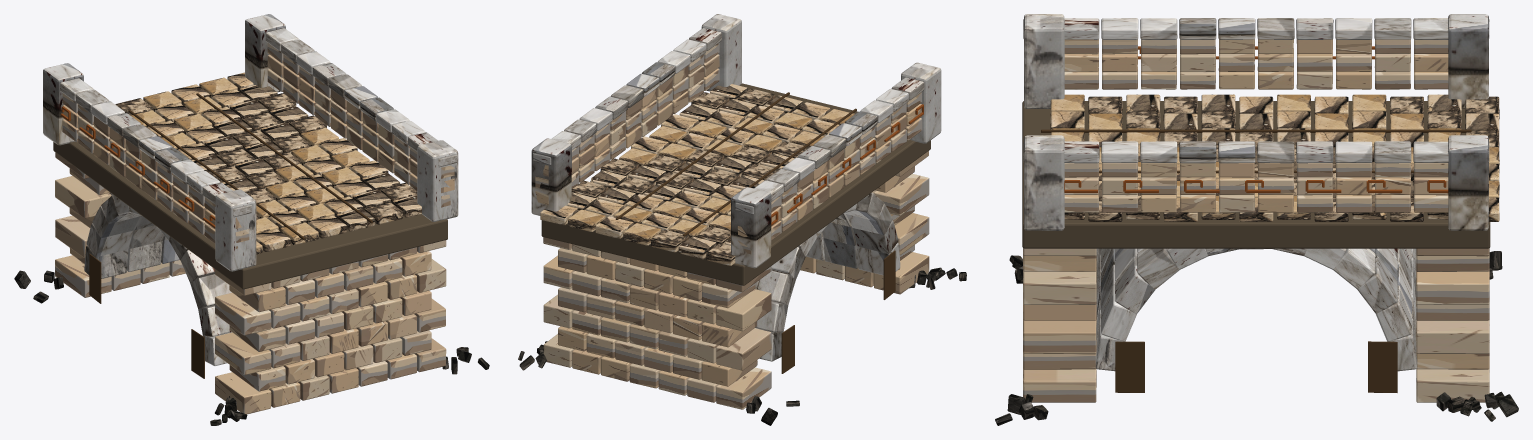
The model's file is bridge_stone_6x4m_LOD0.glb.
3 views of the same model, side by side, from view 1: azimuth 30°, elevation 25°; view 2: azimuth 150°, elevation 25°; view 3: azimuth 270°, elevation 25° (orthographic). The views are drawn at different scales.
Parts seen in each view (by area): view 1: BridgeDeckCore, BridgeTerminalPier, BridgeTerminalPier.002, BridgeTerminalPier.001, BridgeTerminalPier.003, BridgeAbutmentAshlar.013, BridgeAbutmentAshlar.026, BridgeAbutmentAshlar, BridgeAbutmentAshlar.072, BridgeAbutmentAshlar.046, BridgeAbutmentAshlar.059, VaultVoussoir.010 (+101 smaller); view 2: BridgeDeckCore, BridgeTerminalPier.001, BridgeTerminalPier.003, BridgeTerminalPier.002, BridgeTerminalPier, BridgeAbutmentAshlar.059, BridgeAbutmentAshlar.072, BridgeAbutmentAshlar.046, BridgeAbutmentAshlar.026, BridgeAbutmentAshlar, BridgeAbutmentAshlar.013, VaultVoussoir.002 (+106 smaller); view 3: BridgeDeckCore, BridgeTerminalPier.002, BridgeTerminalPier.003, BridgeTerminalPier, BridgeTerminalPier.001, BridgeAbutmentAshlar.032, BridgeAbutmentAshlar.019, BridgeAbutmentAshlar.065, BridgeAbutmentAshlar.078, BridgeAbutmentAshlar.006, BridgeAbutmentAshlar.052, BridgeTrafficWear (+122 smaller).
Part boxes in pixels (x1=…): BridgeDeckCore: x1=53, y1=141, x2=447, y2=289; BridgeTerminalPier: x1=215, y1=189, x2=256, y2=271; BridgeTerminalPier.002: x1=417, y1=140, x2=458, y2=221; BridgeTerminalPier.001: x1=43, y1=63, x2=83, y2=145; BridgeTerminalPier.003: x1=245, y1=14, x2=285, y2=92; BridgeAbutmentAshlar.013: x1=215, y1=332, x2=271, y2=375; BridgeAbutmentAshlar.026: x1=215, y1=293, x2=271, y2=335; BridgeAbutmentAshlar: x1=215, y1=372, x2=271, y2=414; BridgeAbutmentAshlar.072: x1=55, y1=176, x2=111, y2=218; BridgeAbutmentAshlar.046: x1=55, y1=255, x2=111, y2=297; BridgeAbutmentAshlar.059: x1=55, y1=215, x2=90, y2=257; VaultVoussoir.010: x1=190, y1=274, x2=231, y2=308; BridgeDeckCore: x1=541, y1=83, x2=930, y2=285; BridgeTerminalPier.001: x1=731, y1=187, x2=771, y2=268; BridgeTerminalPier.003: x1=531, y1=138, x2=571, y2=215; BridgeTerminalPier.002: x1=701, y1=14, x2=741, y2=91; BridgeTerminalPier: x1=901, y1=62, x2=941, y2=143; BridgeAbutmentAshlar.059: x1=716, y1=328, x2=771, y2=370; BridgeAbutmentAshlar.072: x1=716, y1=289, x2=771, y2=331; BridgeAbutmentAshlar.046: x1=716, y1=367, x2=771, y2=409; BridgeAbutmentAshlar.026: x1=874, y1=173, x2=929, y2=215; BridgeAbutmentAshlar: x1=873, y1=252, x2=929, y2=294; BridgeAbutmentAshlar.013: x1=895, y1=213, x2=929, y2=255; VaultVoussoir.002: x1=755, y1=270, x2=795, y2=304; BridgeDeckCore: x1=1022, y1=101, x2=1490, y2=248; BridgeTerminalPier.002: x1=1024, y1=135, x2=1064, y2=230; BridgeTerminalPier.003: x1=1448, y1=135, x2=1488, y2=230; BridgeTerminalPier: x1=1024, y1=14, x2=1064, y2=108; BridgeTerminalPier.001: x1=1448, y1=14, x2=1488, y2=108; BridgeAbutmentAshlar.032: x1=1023, y1=269, x2=1096, y2=304; BridgeAbutmentAshlar.019: x1=1023, y1=320, x2=1096, y2=353; BridgeAbutmentAshlar.065: x1=1416, y1=320, x2=1489, y2=353; BridgeAbutmentAshlar.078: x1=1416, y1=271, x2=1489, y2=304; BridgeAbutmentAshlar.006: x1=1023, y1=369, x2=1096, y2=402; BridgeAbutmentAshlar.052: x1=1416, y1=368, x2=1489, y2=402; BridgeTrafficWear: x1=1041, y1=129, x2=1471, y2=132.
Bounding box in the file's own units: 4.99 × 3.8 × 6.72.
7 materials, 4 textured.
